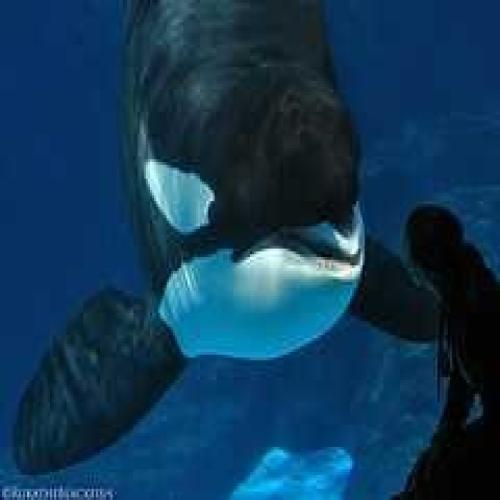killer_whale-endangered: (110, 0, 423, 396)
